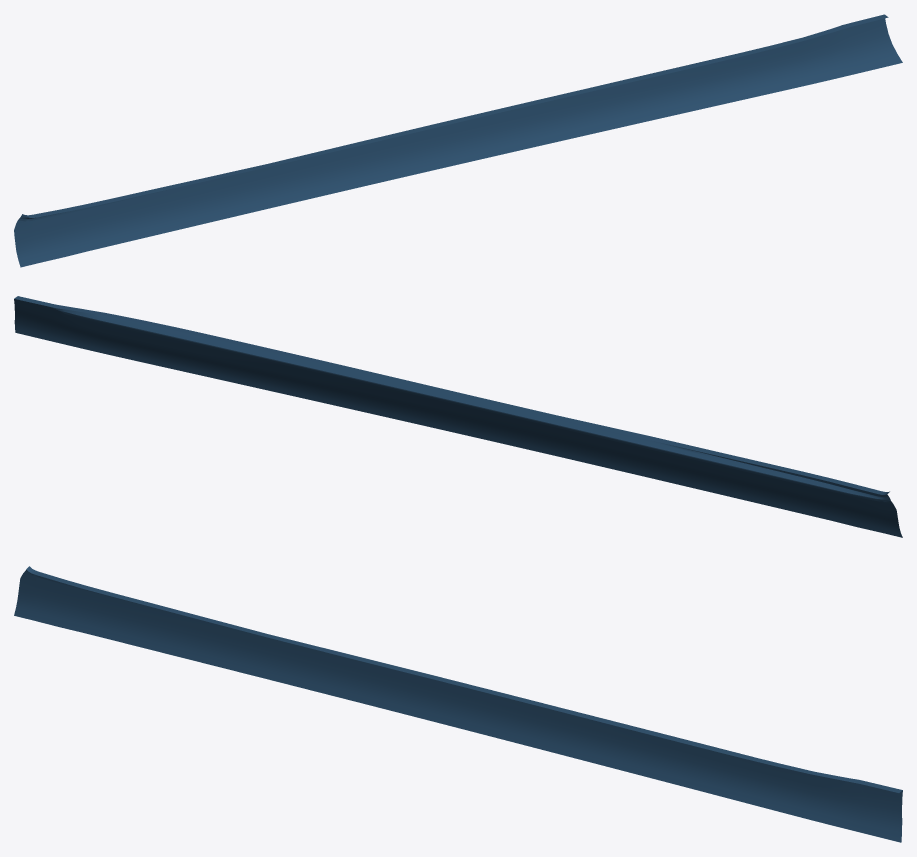
3 views of the same model, one above another, from view 1: azimuth 30°, elevation 25°; view 2: azimuth 150°, elevation 25°; view 3: azimuth 330°, elevation 25° (orthographic).
Visible parts, largest first — view 1: Y191_13_206A_L_1_DaS_Y191_13_206A_L, Y191_13_206A_L_1_DaS_Y191_13_206A_L_E; view 2: Y191_13_206A_L_1_DaS_Y191_13_206A_L, Y191_13_206A_L_1_DaS_Y191_13_206A_L_E; view 3: Y191_13_206A_L_1_DaS_Y191_13_206A_L, Y191_13_206A_L_1_DaS_Y191_13_206A_L_E.
Part boxes in pixels (x1,y1,x2,y2): Y191_13_206A_L_1_DaS_Y191_13_206A_L: (14,18,902,267); Y191_13_206A_L_1_DaS_Y191_13_206A_L_E: (20,14,888,218); Y191_13_206A_L_1_DaS_Y191_13_206A_L: (14,299,902,537); Y191_13_206A_L_1_DaS_Y191_13_206A_L_E: (14,296,889,499); Y191_13_206A_L_1_DaS_Y191_13_206A_L: (14,570,902,842); Y191_13_206A_L_1_DaS_Y191_13_206A_L_E: (26,566,902,792).
Bounding box in the file's own units: 175 × 10.9 × 3.57.
